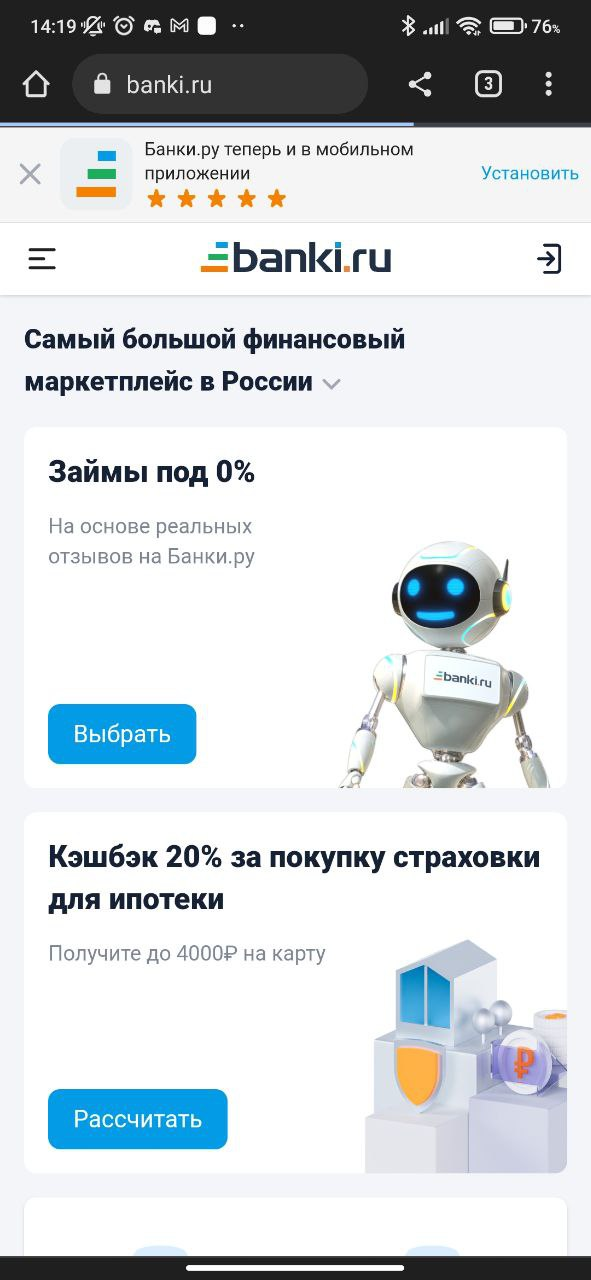burger_menu: (25, 242, 59, 272)
